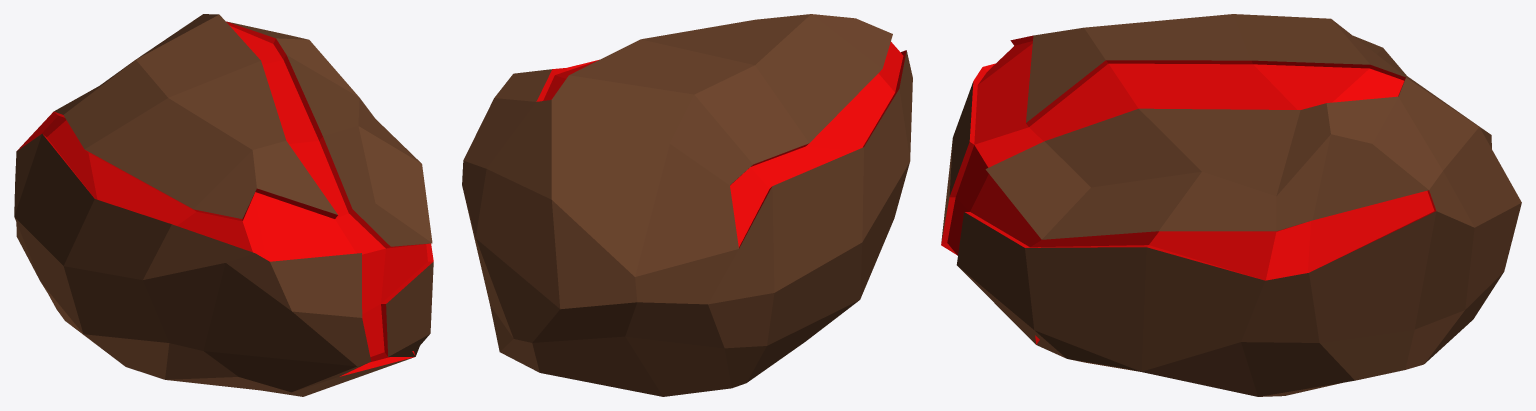
File: MineralNode_11_A.fbx
3 renders of one model, left to right at view 1: azimuth 30°, elevation 25°; view 2: azimuth 150°, elevation 25°; view 3: azimuth 270°, elevation 25°, orthographic. The views are drawn at different scales.
Visible parts, largest first — view 1: MineralNode_11_A; view 2: MineralNode_11_A; view 3: MineralNode_11_A.
Part boxes in pixels (<box>): MineralNode_11_A: <box>14,14,433,396</box>; MineralNode_11_A: <box>462,14,912,396</box>; MineralNode_11_A: <box>941,14,1521,396</box>.
Bounding box in the file's own units: 77.67 × 59.42 × 103.
